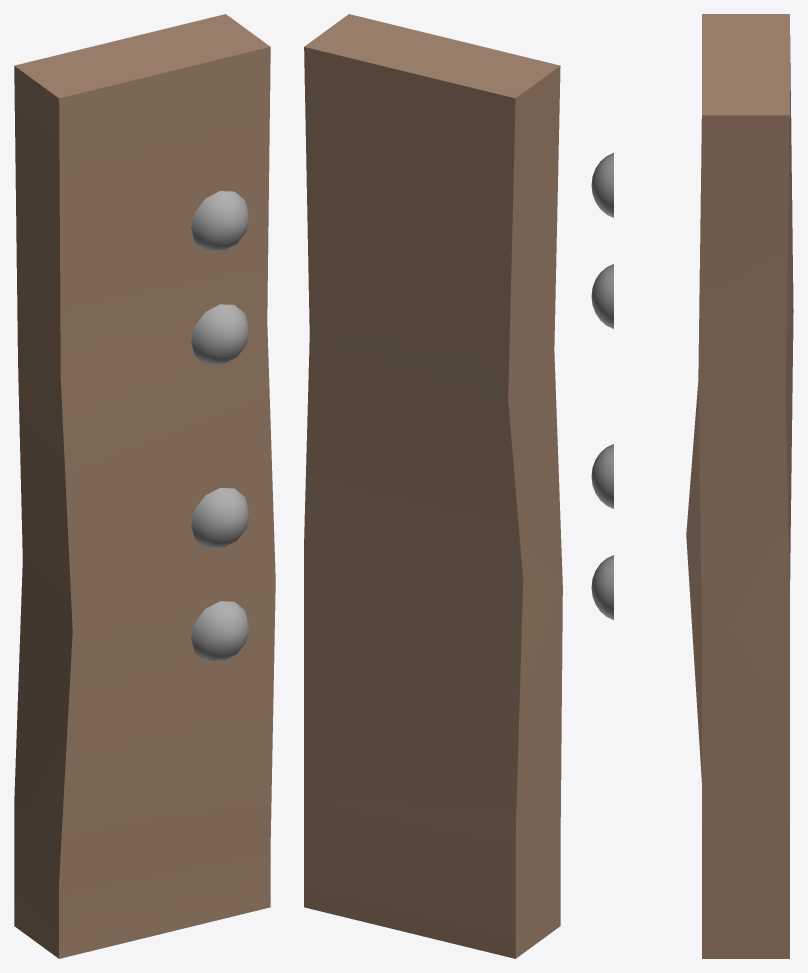
Rendered from Mod_FencePostEnd.fbx.
3 views of the same model, side by side, from view 1: azimuth 30°, elevation 25°; view 2: azimuth 150°, elevation 25°; view 3: azimuth 270°, elevation 25° (orthographic).
Parts seen in each view (by area): view 1: FencePostEnd; view 2: FencePostEnd; view 3: FencePostEnd.
Part boxes in pixels (x1,y1,x2,y2): FencePostEnd: (14,14,275,958); FencePostEnd: (304,14,562,958); FencePostEnd: (591,14,793,958).
Bounding box in the file's own units: 34.26 × 130 × 28.21.
